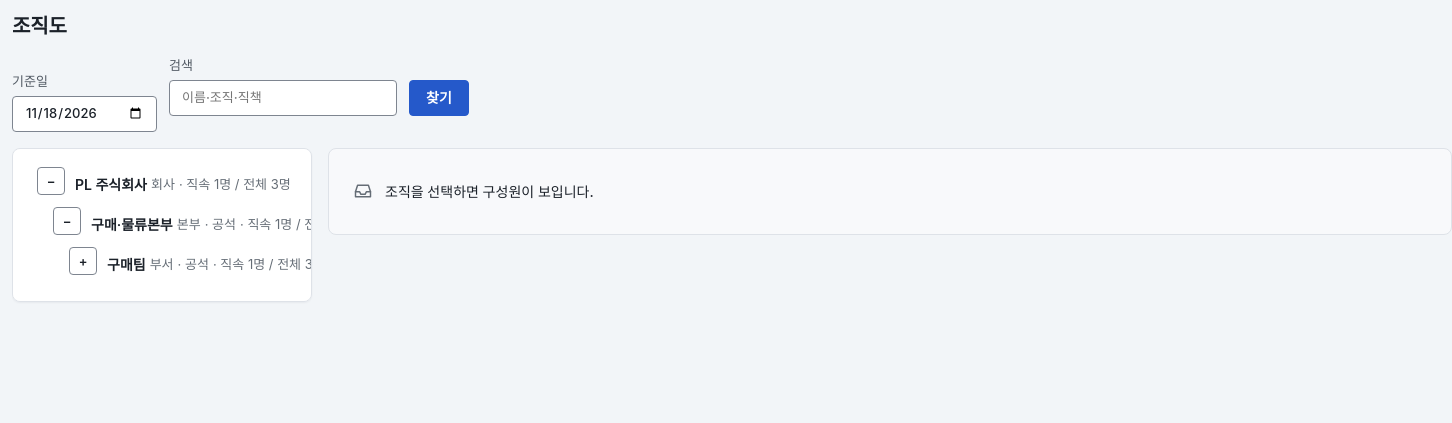
조직도 화면 › 검색 결과가 없으면 안내하고, 기준일을 바꾸면 안내 상자와 오늘로 돌아가기가 나온다
This screenshot has width=1452, height=423.
Expected: the list named "조직 트리" is shown, [37,164,287,284]
Type "없는사람" into the field with placeholder "이름·조직·직책".
click(283, 98); type("없는사람")  # box [169,80,397,116]
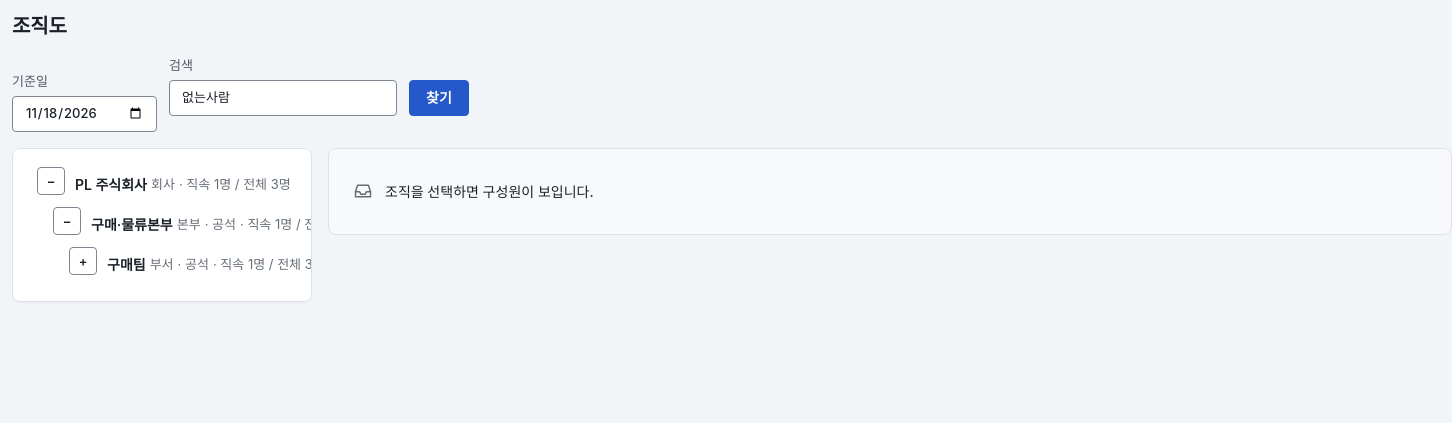
Click the button "찾기".
click(439, 98)  # box [409,80,469,116]
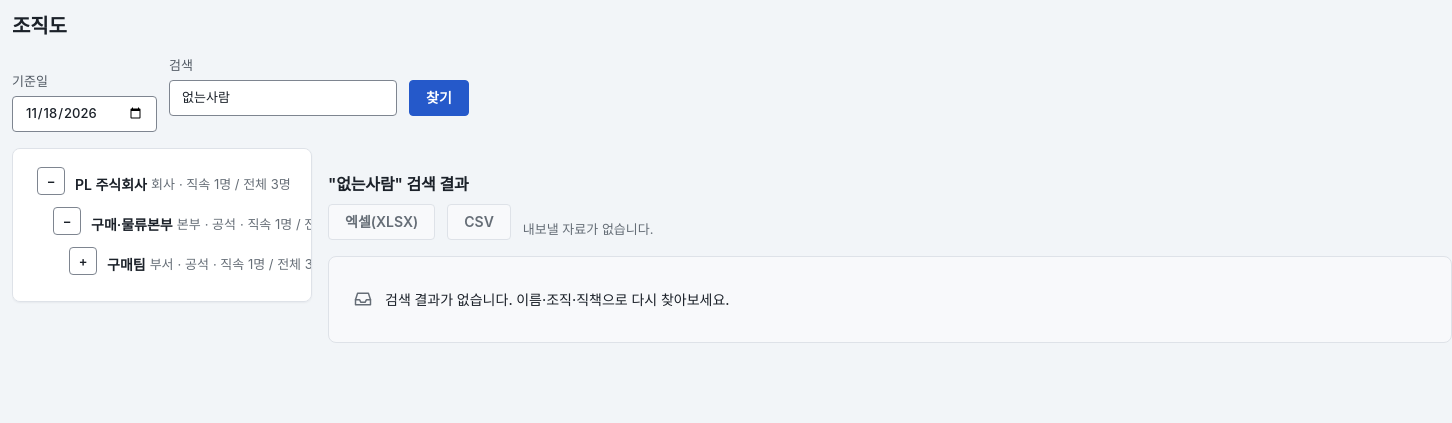
Now the text "검색 결과가 없습니다. 이름·조직·직책으로 다시 찾아보세요." is shown, box [385,288,730,310]
Type "2020-03-01" into the date field labelled "기준일".
click(84, 114); type("2020-03-01")  # box [12,96,157,132]
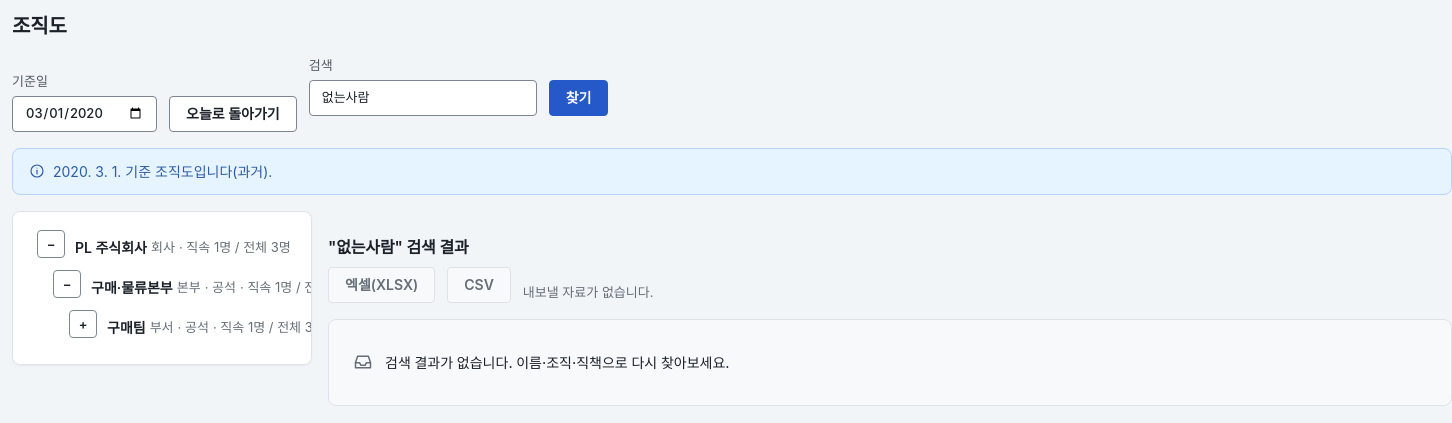
Now the text "2020. 3. 1. 기준 조직도입니다(과거)." is shown, box [53,160,272,182]
Click the button "오늘로 돌아가기".
click(233, 114)  # box [169,96,297,132]
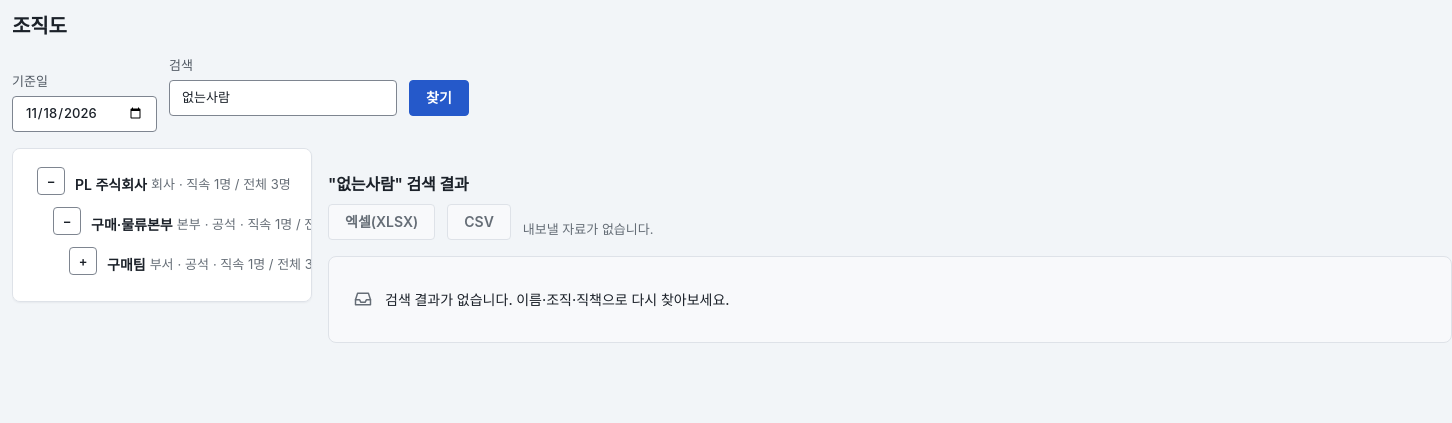
Now the text "기준 조직도입니다" is gone
